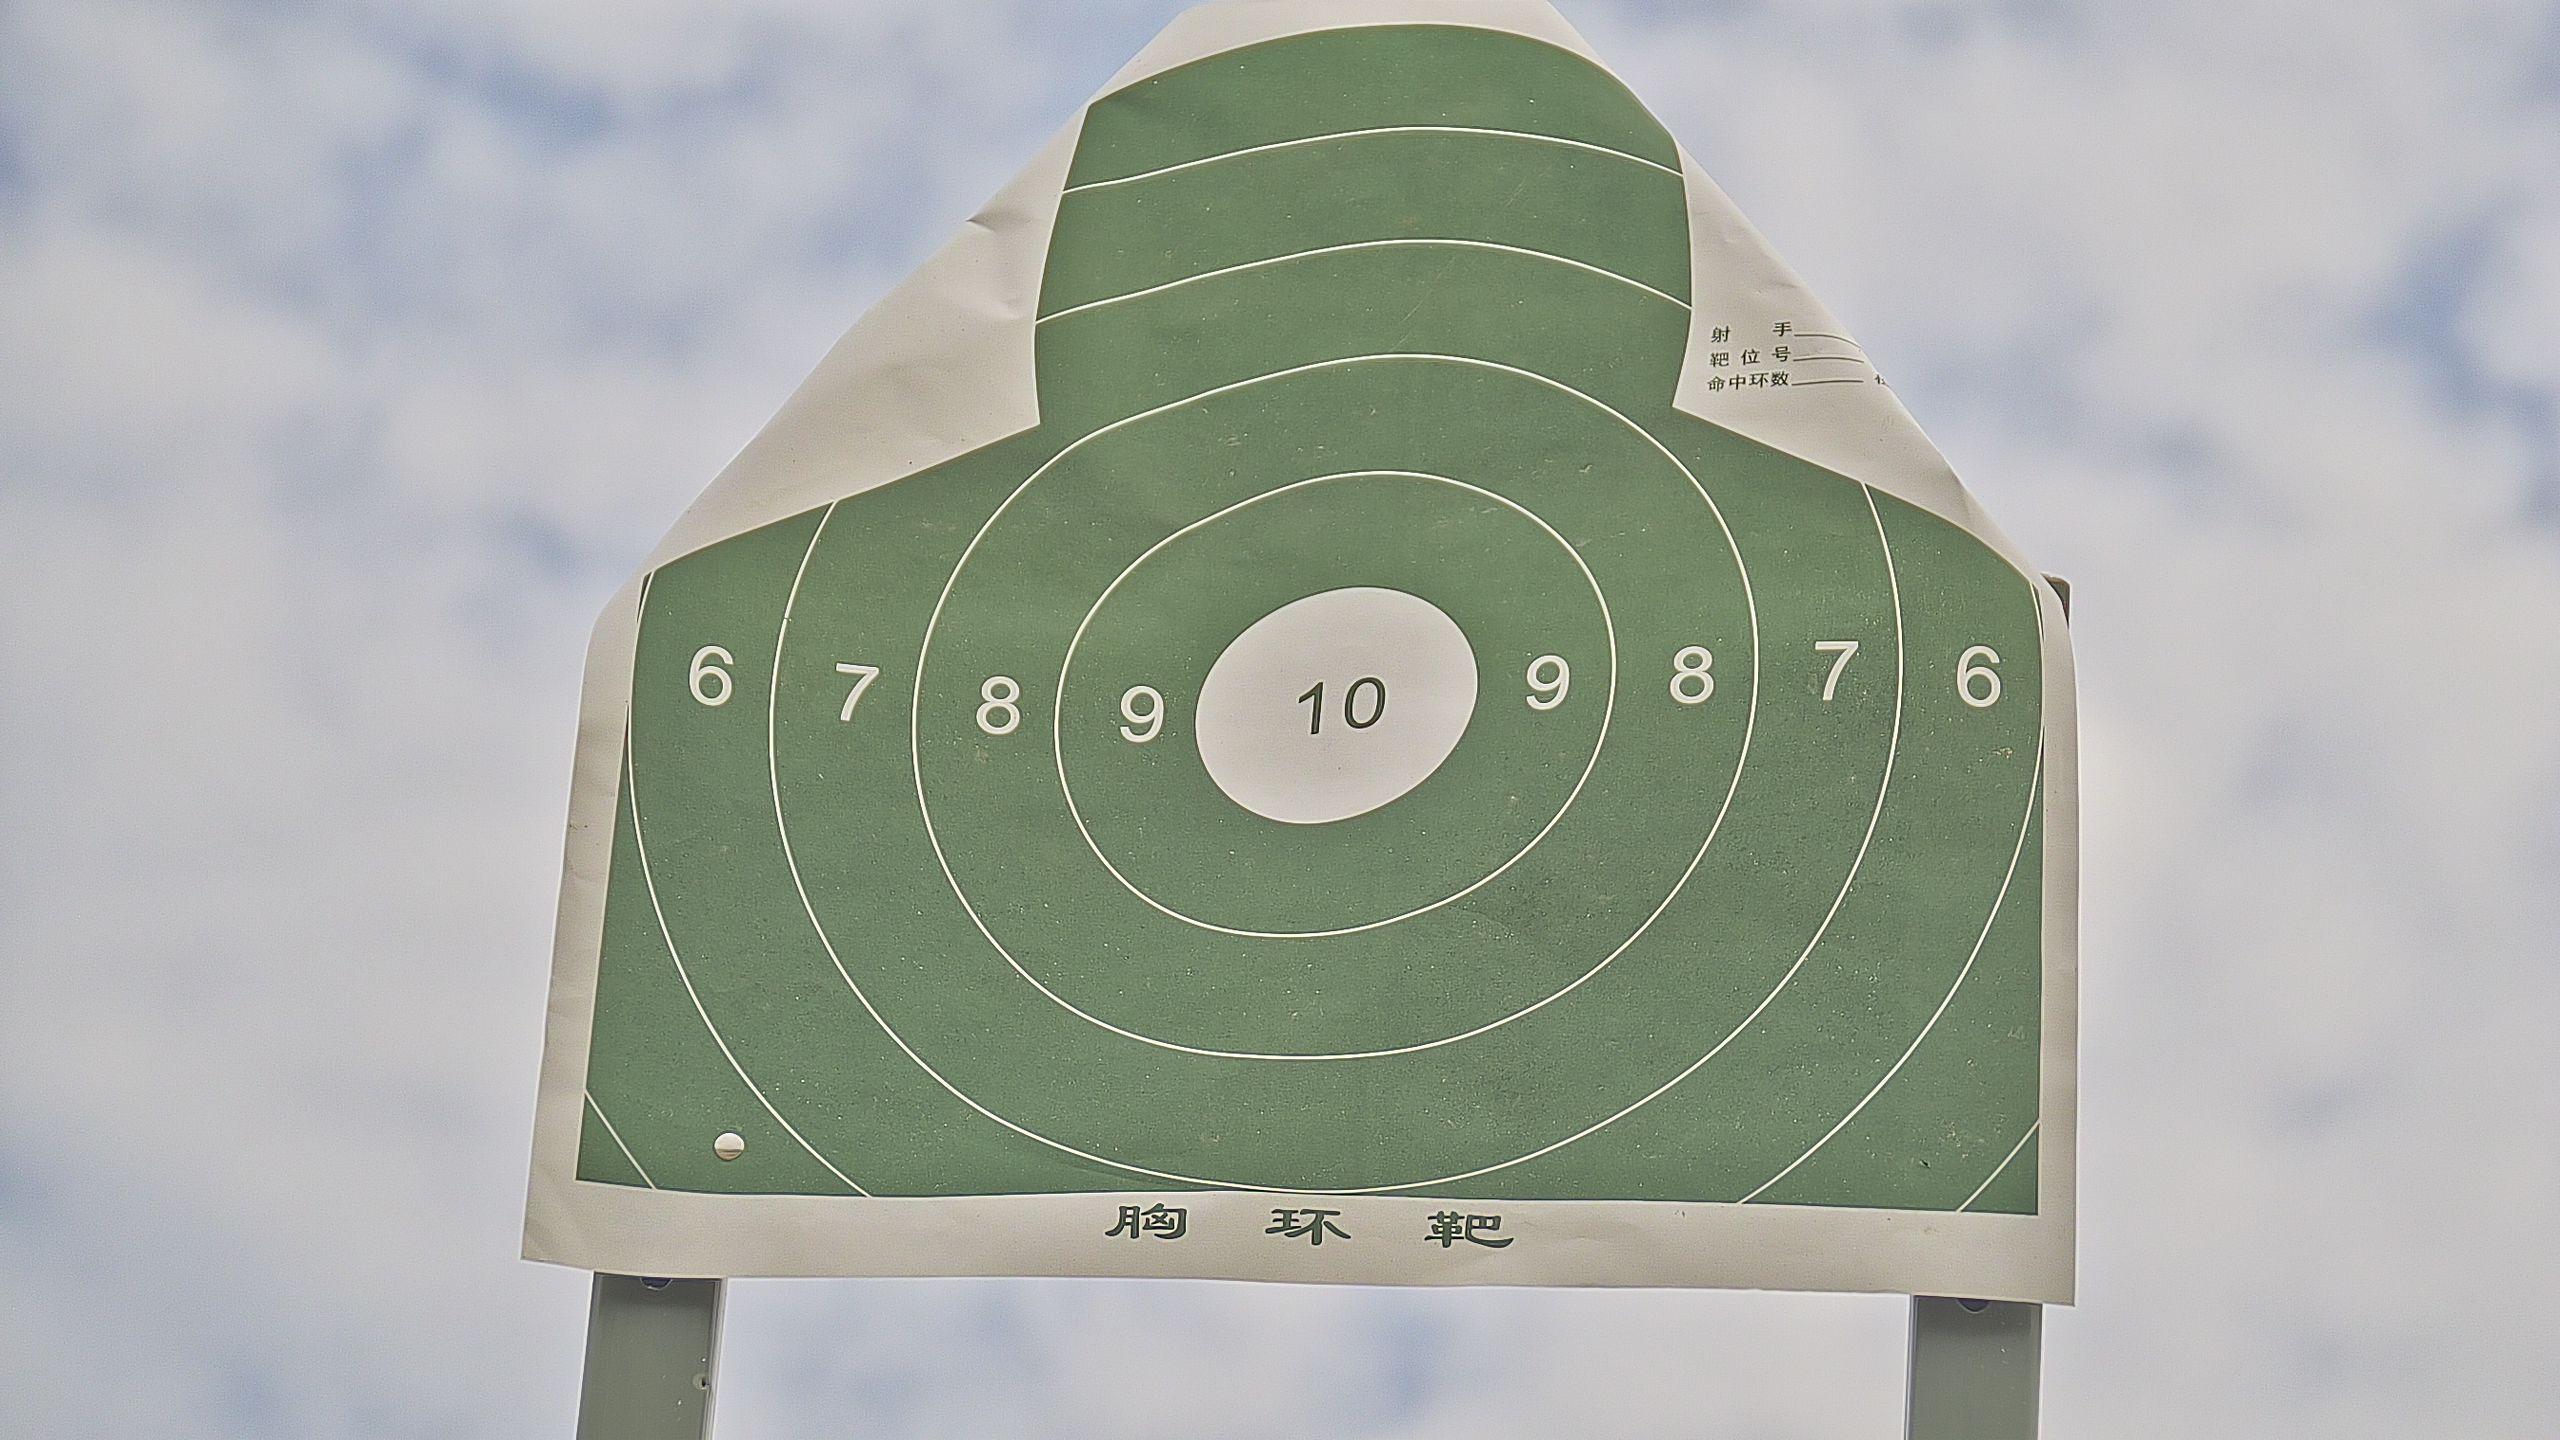kernel: (1326, 702, 1336, 705)
target: (568, 23, 2045, 1224)
ten: (1196, 585, 1480, 825)
